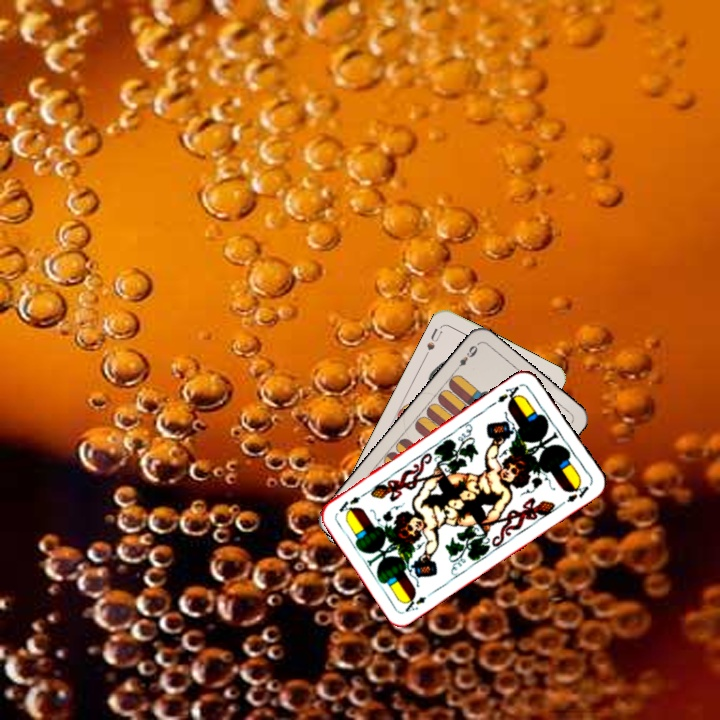E9: (451, 340, 481, 374)
EA: (493, 380, 524, 406), (400, 591, 429, 615)
SU: (421, 324, 445, 360)
